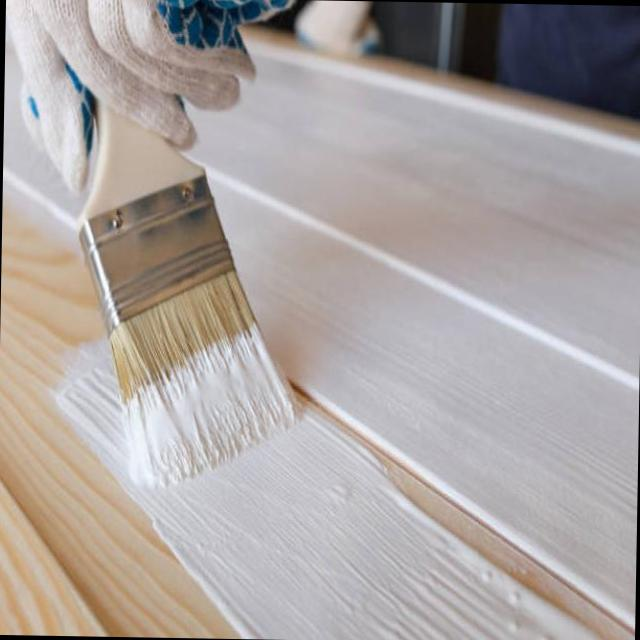Gloves: (2, 0, 294, 198)
